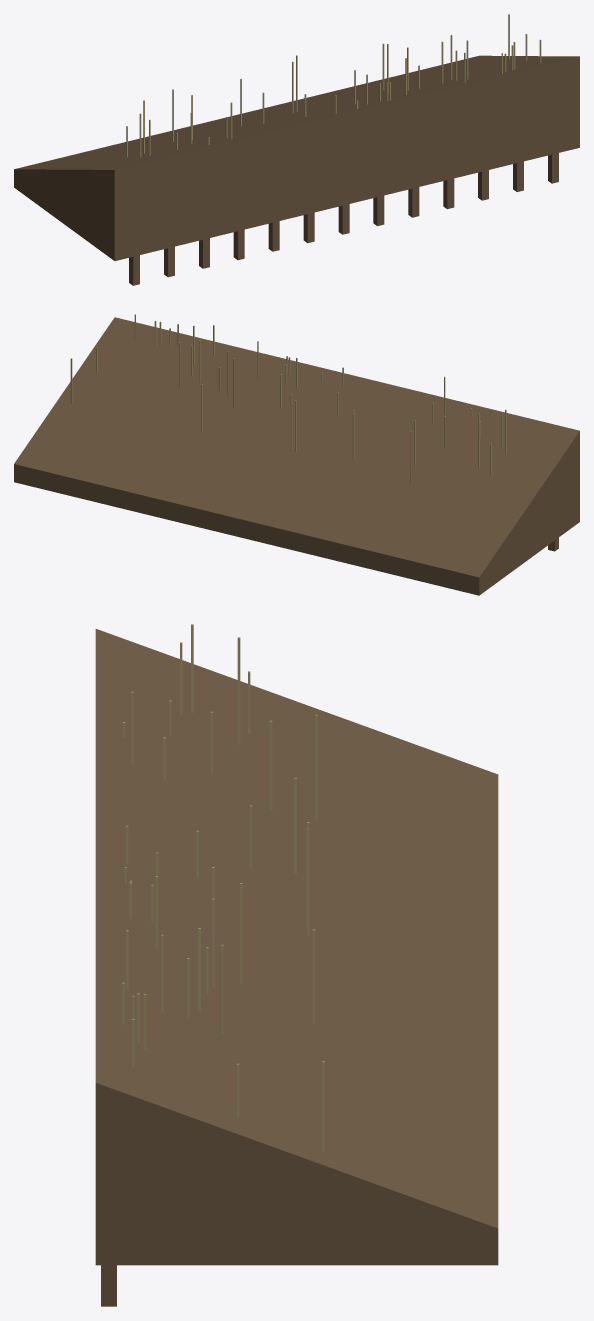
The model's file is d-nl-06-reed-bank-edge.glb.
3 views of the same model, one above another, from view 1: azimuth 30°, elevation 25°; view 2: azimuth 150°, elevation 25°; view 3: azimuth 270°, elevation 25° (orthographic). The views are drawn at different scales.
Parts seen in each view (by area): view 1: part0, part14; view 2: part0, part14; view 3: part0, part14.
Boxes of the visible parts, <box> form: part0: <box>14,55,579,260</box>; part14: <box>126,14,541,157</box>; part0: <box>14,317,579,595</box>; part14: <box>70,314,506,483</box>; part0: <box>95,629,498,1265</box>; part14: <box>122,624,324,1152</box>.
Size of the model in its own units: 8000 by 2488 by 3000.
